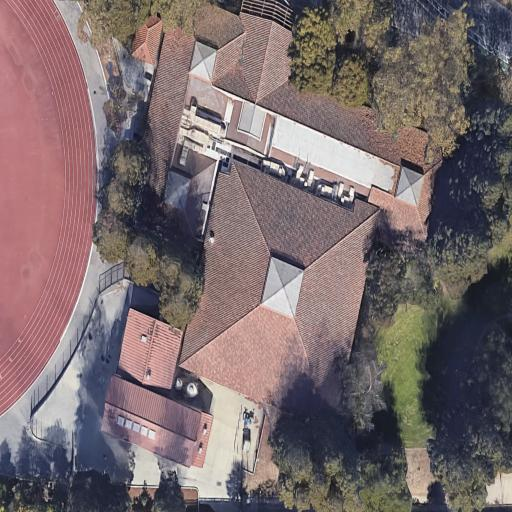Slope-Roof: (127, 0, 444, 435)
